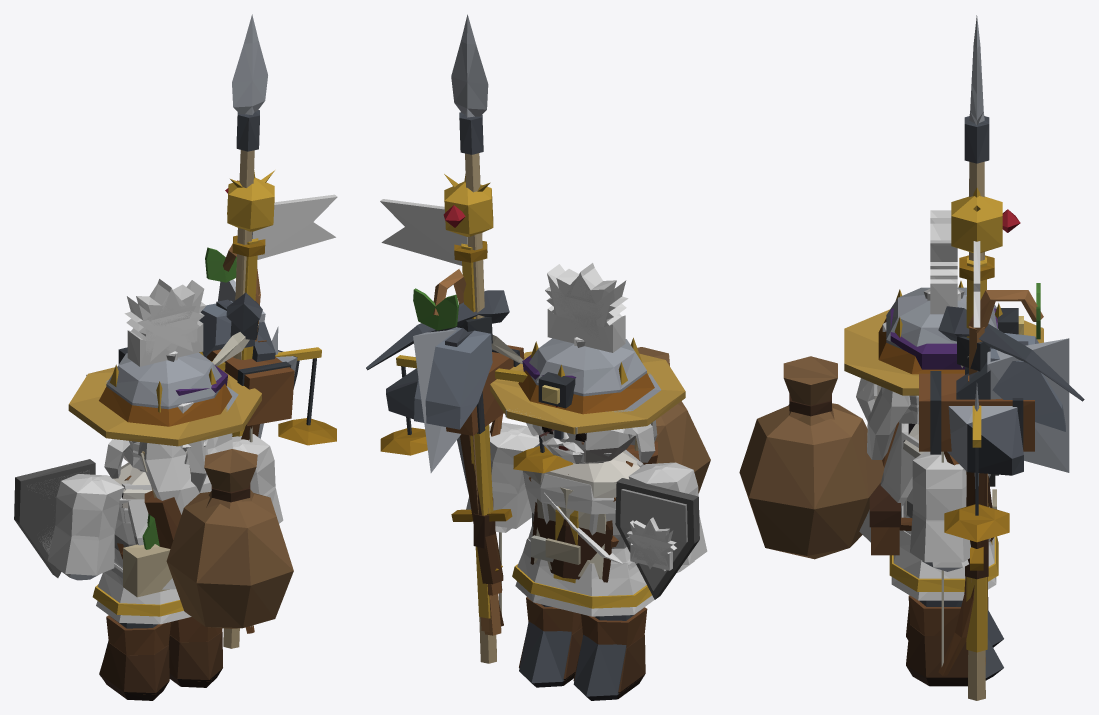
The model's file is citizen_kit.fbx.
3 views of the same model, side by side, from view 1: azimuth 30°, elevation 25°; view 2: azimuth 150°, elevation 25°; view 3: azimuth 270°, elevation 25° (orthographic). The views are drawn at different scales.
Parts seen in each view (by area): view 1: tool_sack, hat_straw, tool_spear, hat_helm, shield_azure, sleeve_soldier_l, tool_staff_ruler, tool_mallet, hair_03, tool_pennant, boot_02_l, sleeve_robe_l (+25 smaller); view 2: shield_azure, tool_hoe, hat_straw, tool_staff_ruler, tool_spear, hat_helm, trim_regal, crest_crimson, tool_pennant, hat_miner, tool_sack, tool_scale (+30 smaller); view 3: tool_sack, tool_staff_ruler, tool_hammer, tool_axe, tool_mallet, tool_spear, hat_straw, tool_pick, sleeve_soldier_r, tool_hoe, hat_helm, tool_scale (+16 smaller).
Part boxes in pixels (box(x1,y1,x2,y2)): tool_sack: box(166, 449, 293, 628); hat_straw: box(68, 367, 261, 446); tool_spear: box(223, 14, 267, 648); hat_helm: box(106, 352, 238, 411); shield_azure: box(14, 459, 95, 577); sleeve_soldier_l: box(55, 474, 124, 537); tool_staff_ruler: box(225, 170, 274, 436); tool_mallet: box(205, 349, 294, 425); hair_03: box(138, 433, 232, 514); tool_pennant: box(252, 194, 337, 259); boot_02_l: box(99, 642, 169, 700); sleeve_robe_l: box(47, 476, 115, 575); shield_azure: box(615, 478, 699, 599); tool_hoe: box(414, 327, 492, 632); hat_straw: box(490, 351, 685, 434); tool_staff_ruler: box(443, 174, 493, 618); tool_spear: box(451, 14, 496, 663); hat_helm: box(529, 338, 660, 439); trim_regal: box(512, 451, 651, 608); crest_crimson: box(547, 264, 626, 352); tool_pennant: box(380, 199, 467, 265); hat_miner: box(518, 370, 654, 414); tool_sack: box(637, 347, 710, 493); tool_scale: box(380, 355, 573, 473); tool_sack: box(739, 356, 884, 559); tool_staff_ruler: box(951, 187, 1020, 652); tool_hammer: box(947, 406, 1023, 609); tool_axe: box(956, 338, 1069, 472); tool_mallet: box(919, 371, 1034, 582); tool_spear: box(964, 15, 989, 700); hat_straw: box(844, 309, 1043, 395); tool_pick: box(938, 306, 1084, 401); sleeve_soldier_r: box(912, 451, 966, 520); tool_hoe: box(965, 333, 1065, 663); hat_helm: box(886, 287, 998, 349); tool_scale: box(944, 405, 1009, 542).
Bounding box in the file's own units: 5.89 × 11.34 × 5.05.
